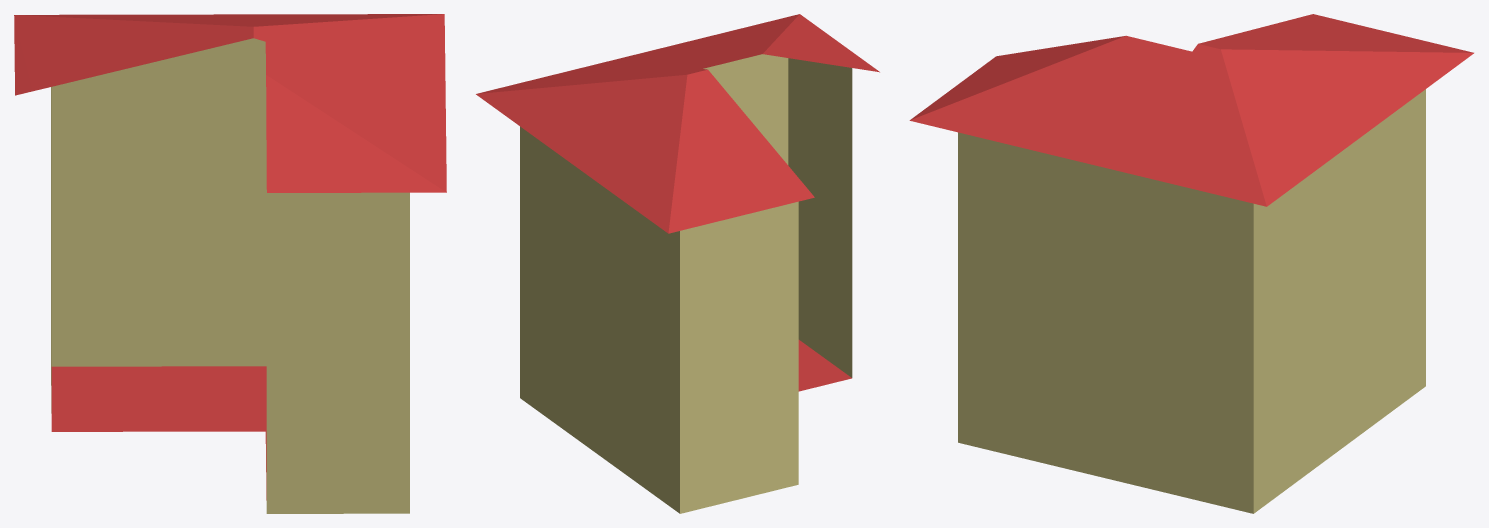
3 renders of one model, left to right at view 1: azimuth 30°, elevation 25°; view 2: azimuth 150°, elevation 25°; view 3: azimuth 270°, elevation 25°, orthographic. The views are drawn at different scales.
Parts seen in each view (by area): view 1: group_5, group_3, group_6, group_4; view 2: group_5, group_3, group_6, group_4; view 3: group_5, group_3, group_4.
Boxes of the visible parts, x1,y1,x2,y2 form: group_5: [51, 38, 409, 513]; group_3: [14, 14, 446, 192]; group_6: [51, 366, 266, 500]; group_4: [14, 15, 444, 192]; group_5: [520, 54, 852, 513]; group_3: [476, 14, 879, 233]; group_6: [798, 340, 851, 391]; group_4: [669, 15, 878, 233]; group_5: [958, 89, 1425, 513]; group_3: [909, 14, 1473, 206]; group_4: [915, 15, 1466, 117].
Bounding box in the file's own units: 9.6 × 11.89 × 8.89.
